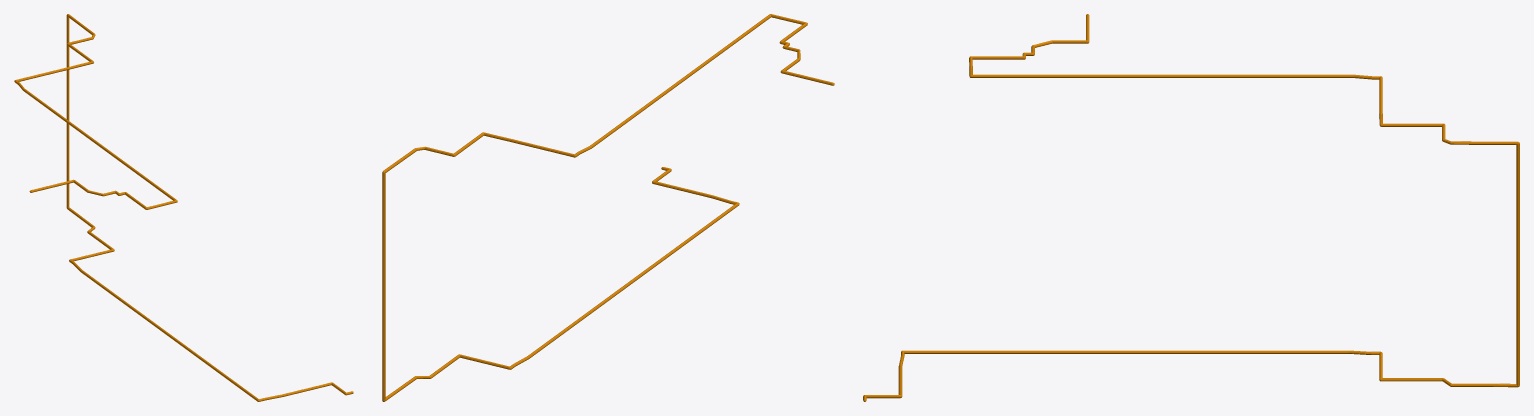
3 views of the same model, side by side, from view 1: azimuth 30°, elevation 25°; view 2: azimuth 150°, elevation 25°; view 3: azimuth 270°, elevation 25° (orthographic). The views are drawn at different scales.
Bounding box in the file's own units: 1914 × 1520 × 3687.
